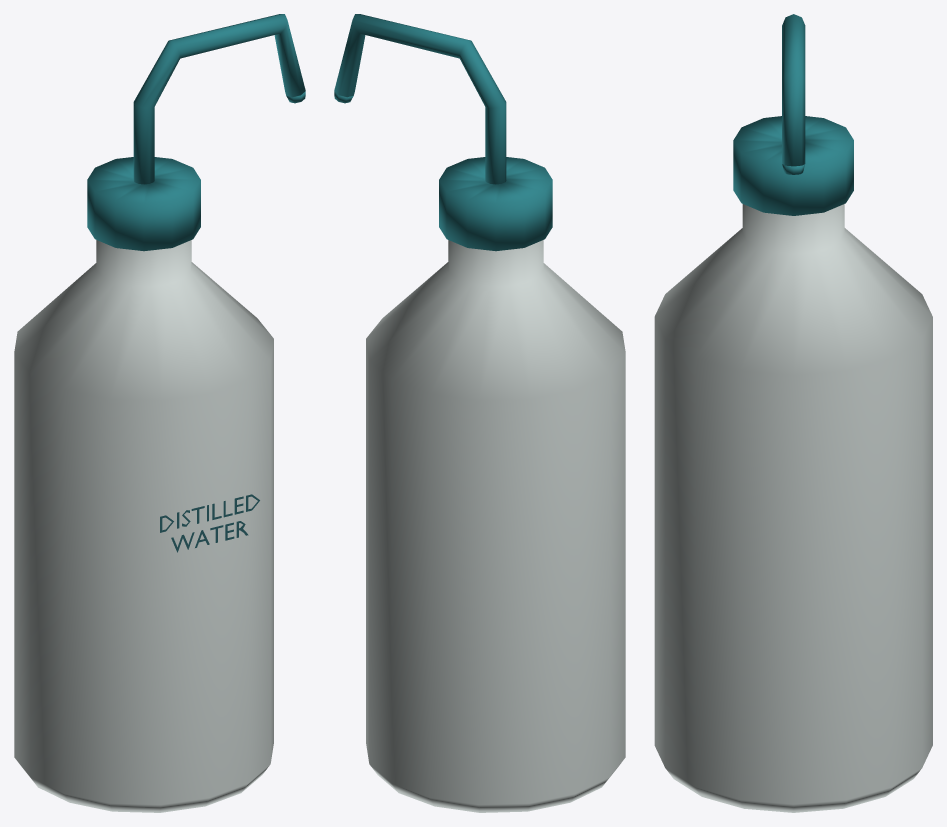
Rendered from VLAB_wash_bottle.fbx.
The picture shows the model from 3 angles, left to right: view 1: azimuth 30°, elevation 25°; view 2: azimuth 150°, elevation 25°; view 3: azimuth 270°, elevation 25°; orthographic projection. The views are drawn at different scales.
Visible parts, largest first — view 1: VLAB_wash_bottle_Body_VIS, VLAB_wash_bottle_Cap_VIS, VLAB_wash_bottle_Nozzle_VIS; view 2: VLAB_wash_bottle_Body_VIS, VLAB_wash_bottle_Cap_VIS, VLAB_wash_bottle_Nozzle_VIS; view 3: VLAB_wash_bottle_Body_VIS, VLAB_wash_bottle_Cap_VIS, VLAB_wash_bottle_Nozzle_VIS.
Boxes of the visible parts, left/top/right/bottom form: VLAB_wash_bottle_Body_VIS: left=14, top=240, right=273, bottom=812; VLAB_wash_bottle_Cap_VIS: left=87, top=157, right=200, bottom=251; VLAB_wash_bottle_Nozzle_VIS: left=133, top=14, right=305, bottom=184; VLAB_wash_bottle_Body_VIS: left=366, top=240, right=625, bottom=812; VLAB_wash_bottle_Cap_VIS: left=439, top=157, right=552, bottom=251; VLAB_wash_bottle_Nozzle_VIS: left=334, top=14, right=506, bottom=184; VLAB_wash_bottle_Body_VIS: left=654, top=204, right=932, bottom=812; VLAB_wash_bottle_Cap_VIS: left=733, top=116, right=853, bottom=215; VLAB_wash_bottle_Nozzle_VIS: left=782, top=14, right=805, bottom=166.
Size of the model in its own units: 0.0724 by 0.1804 by 0.0601.
